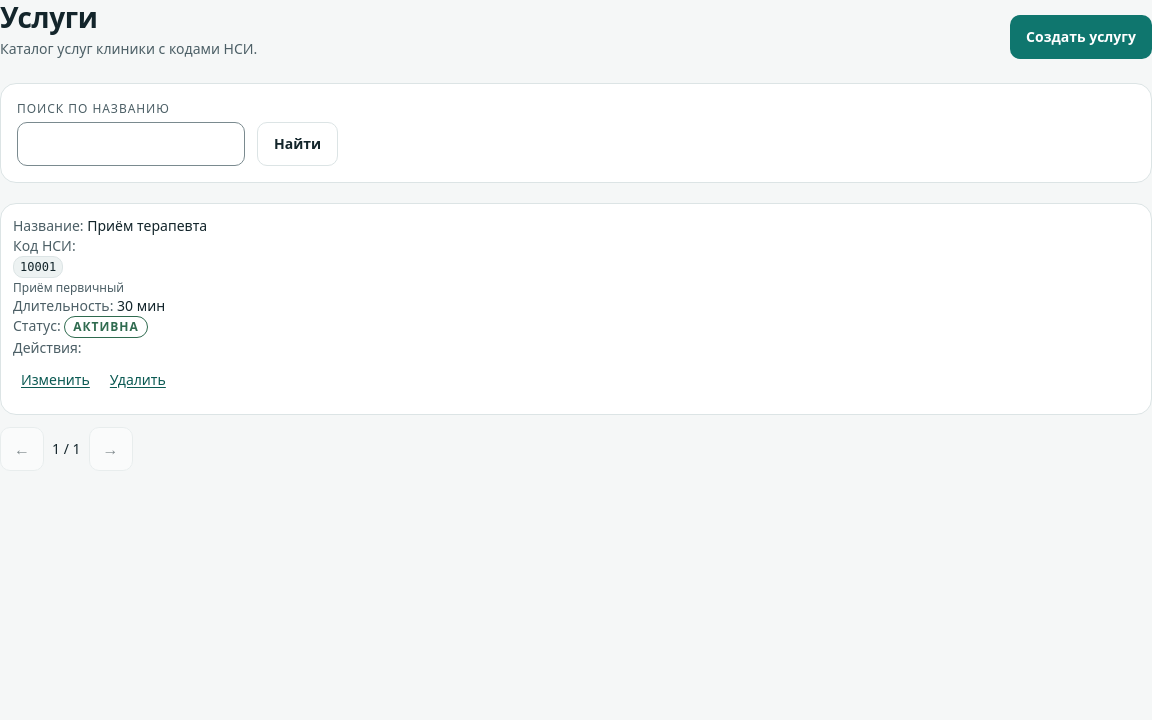
Scenario: ServicesPanel › should not announce the old failure again when the code is edited after TERMINOLOGY_NOT_FOUND
The width and height of the screenshot is (1152, 720).
Click the button "Создать услугу".
click(1081, 37)  # box [1010, 15, 1151, 59]
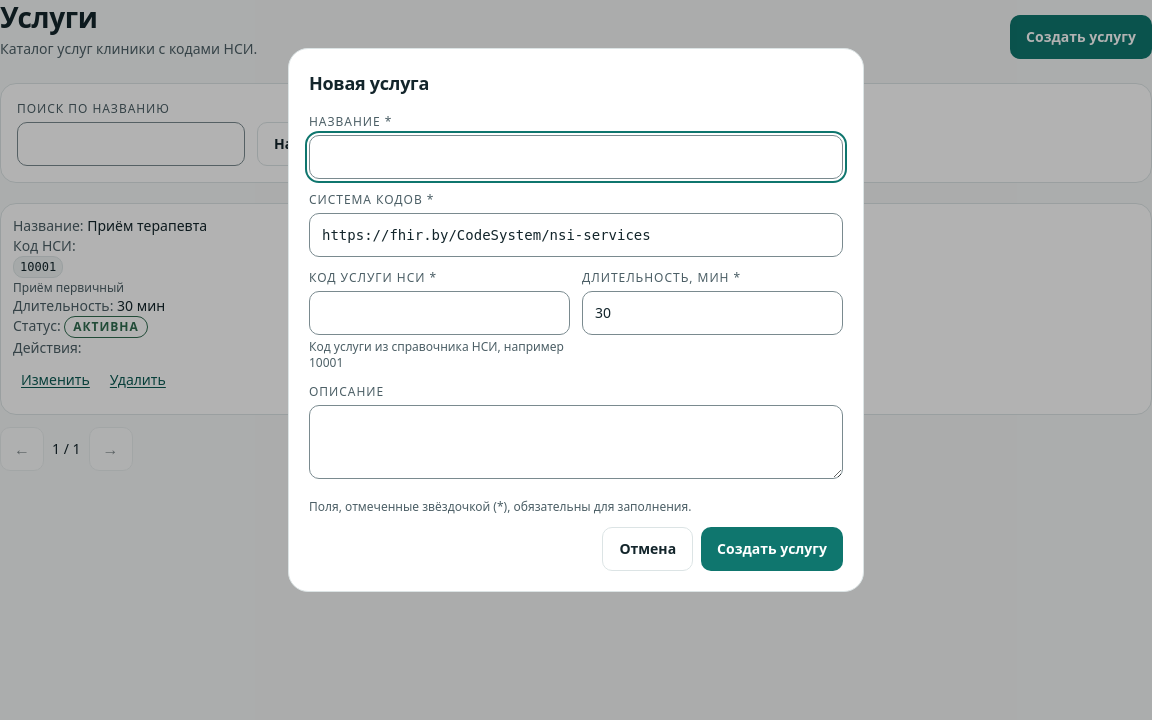
Type "Новая" into the field labelled "Название *".
click(576, 157); type("Новая")  # box [309, 135, 843, 179]
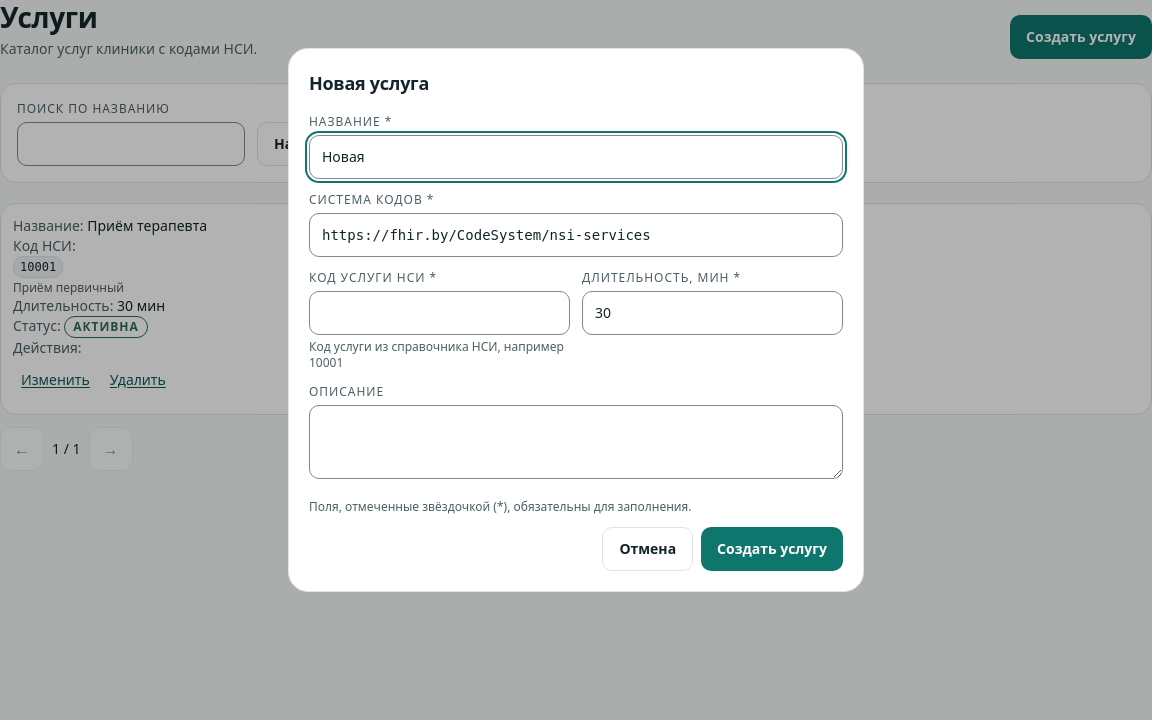
Type "99999" into the field labelled "Код услуги НСИ *".
click(440, 313); type("99999")  # box [309, 291, 570, 335]
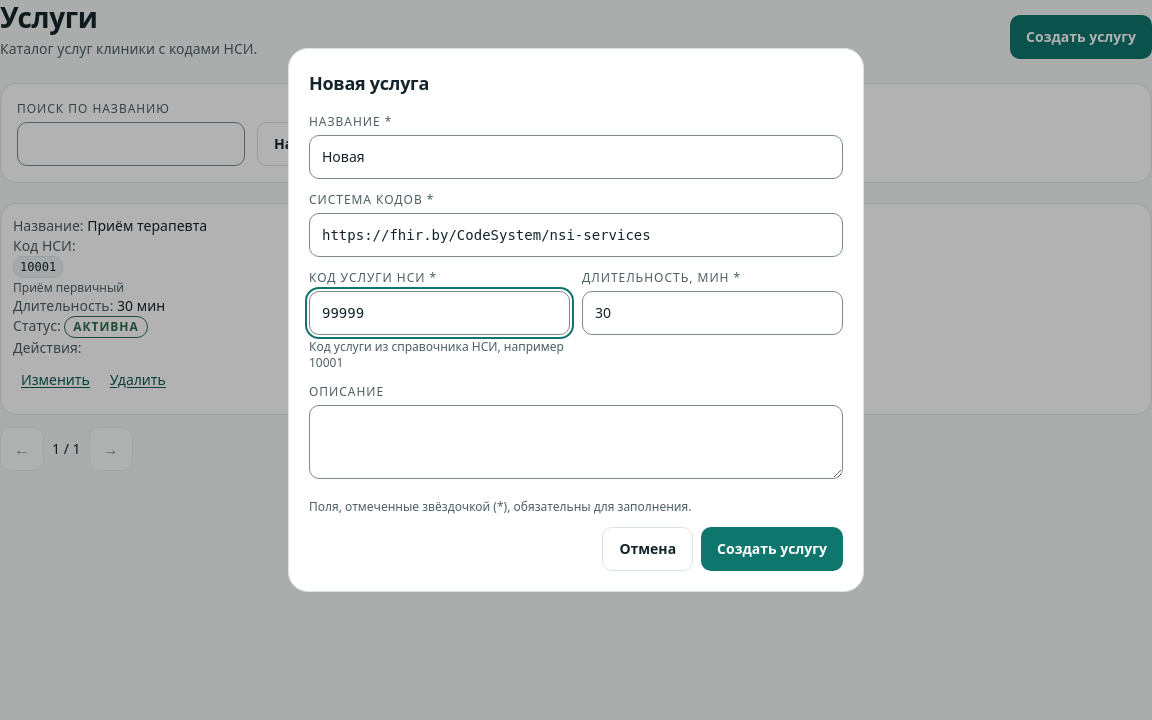
Click the button "Создать услугу".
click(772, 549)  # box [701, 527, 843, 571]
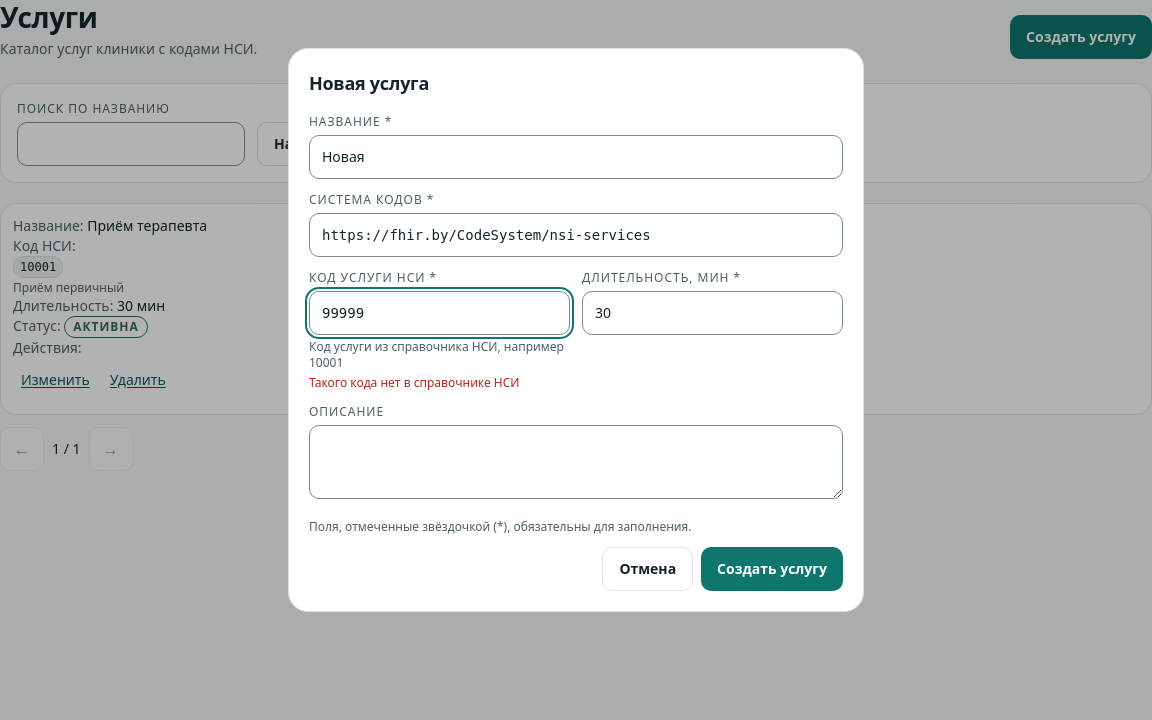
Expected: the text "Такого кода нет в справочнике НСИ" is shown, [309, 374, 520, 391]
Type "1" into the field labelled "Код услуги НСИ *".
click(440, 313); type("1")  # box [309, 291, 570, 335]
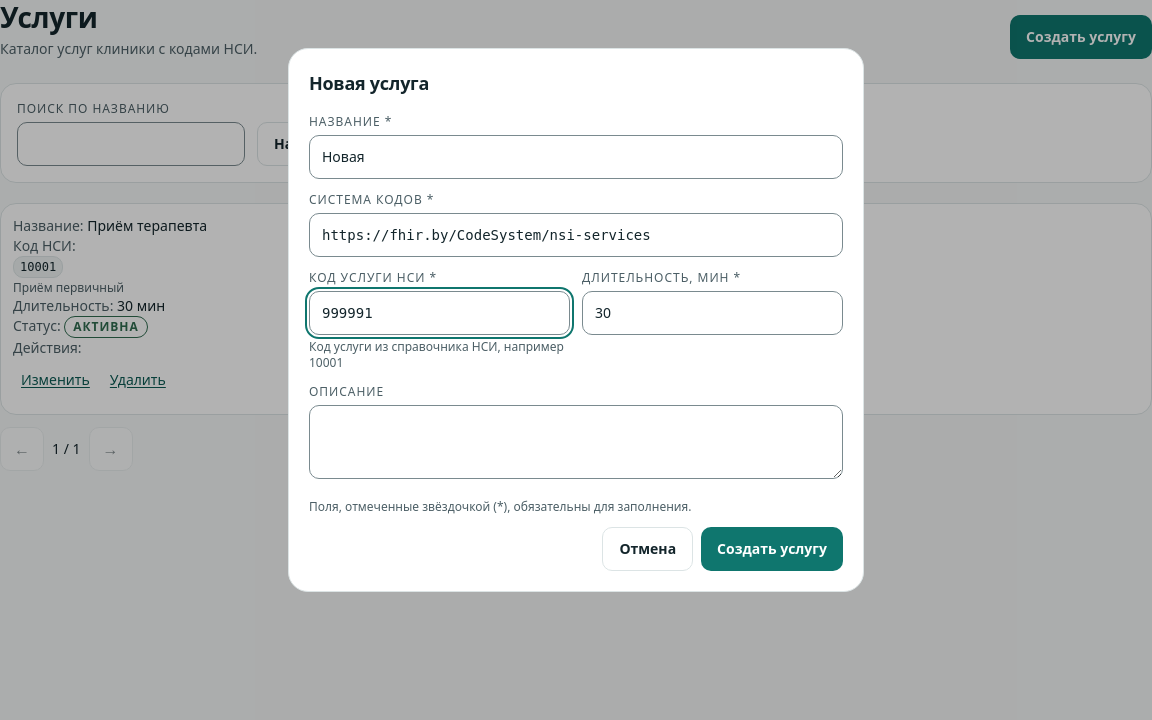
Expected: the text "Такого кода нет в справочнике НСИ" is gone
